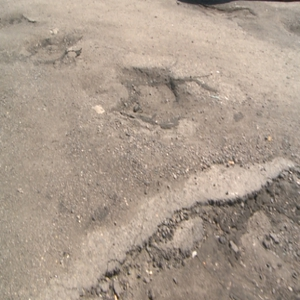pothole: (124, 68, 189, 121)
